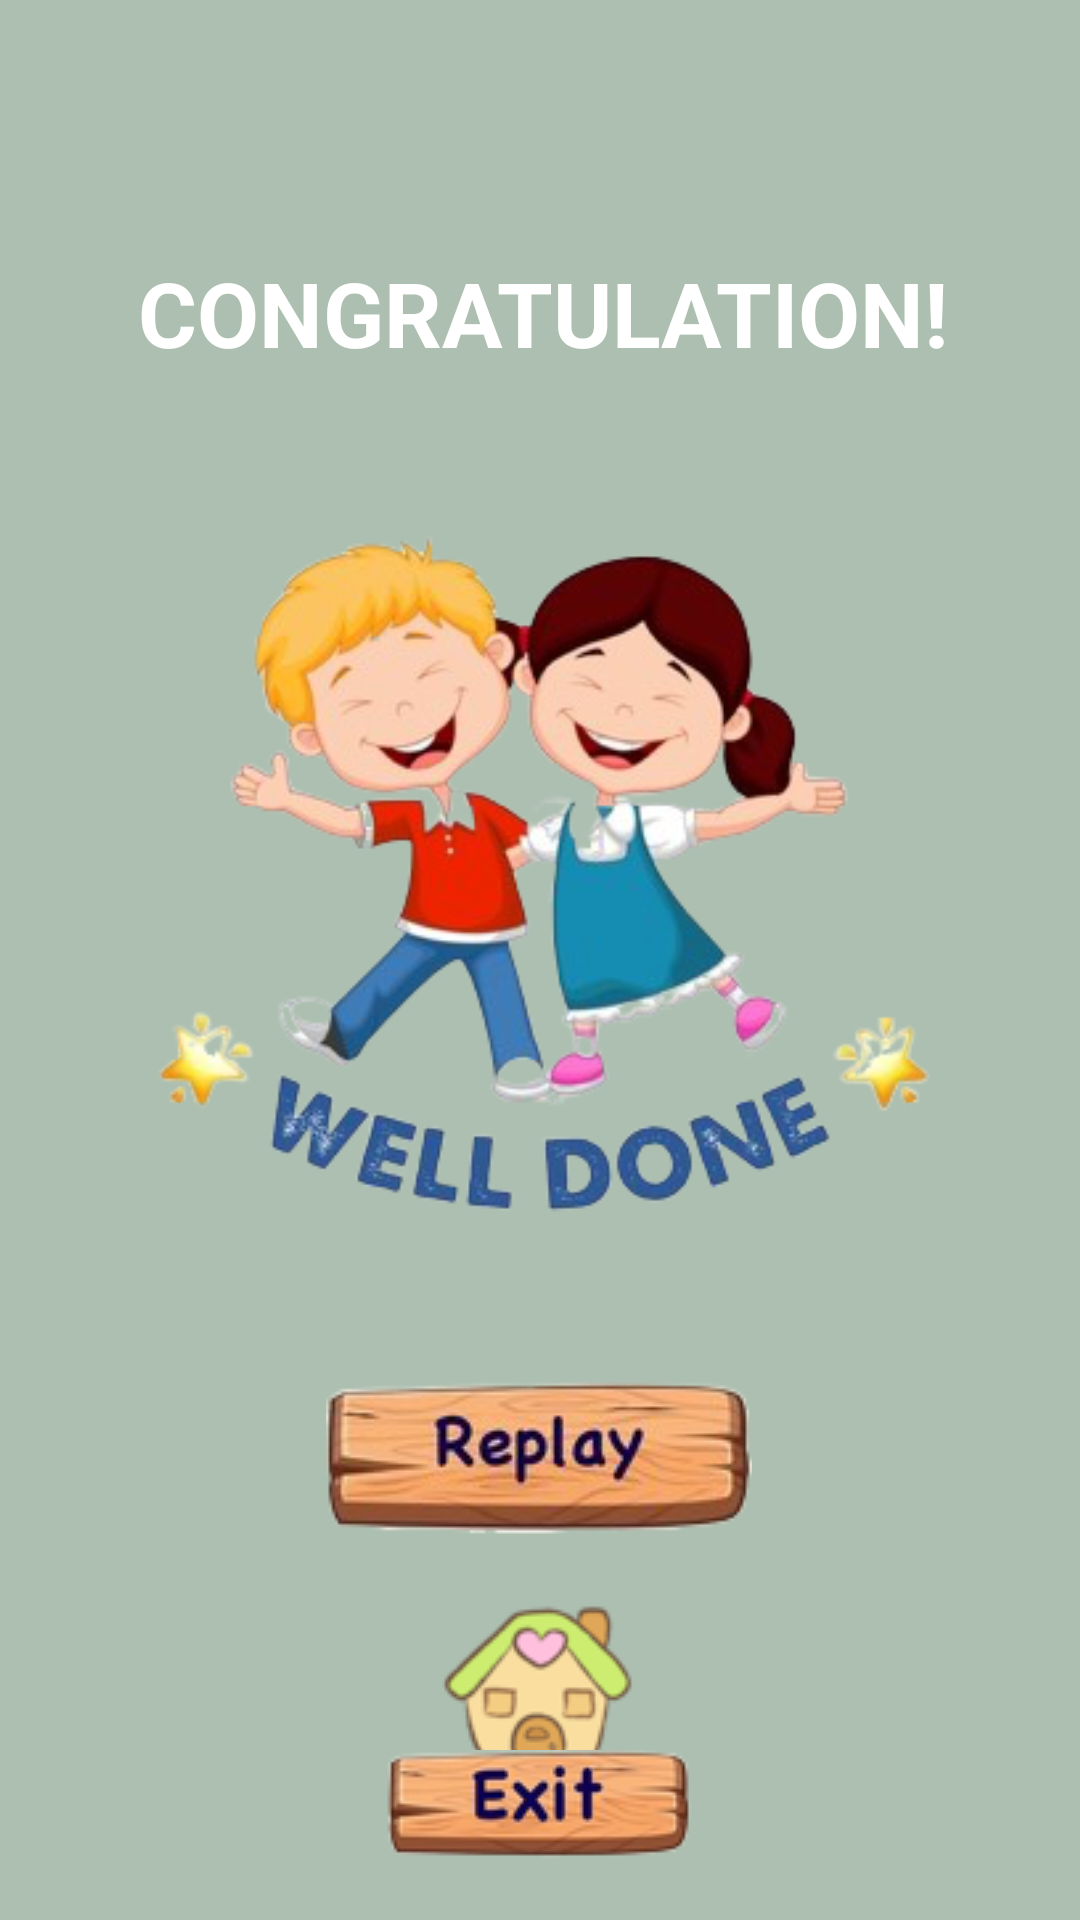

Screen size 1080 x 1920. Icon name, then its box in pixels as (x1, y1, x2, y2):
home: (427, 1606, 632, 1755)
